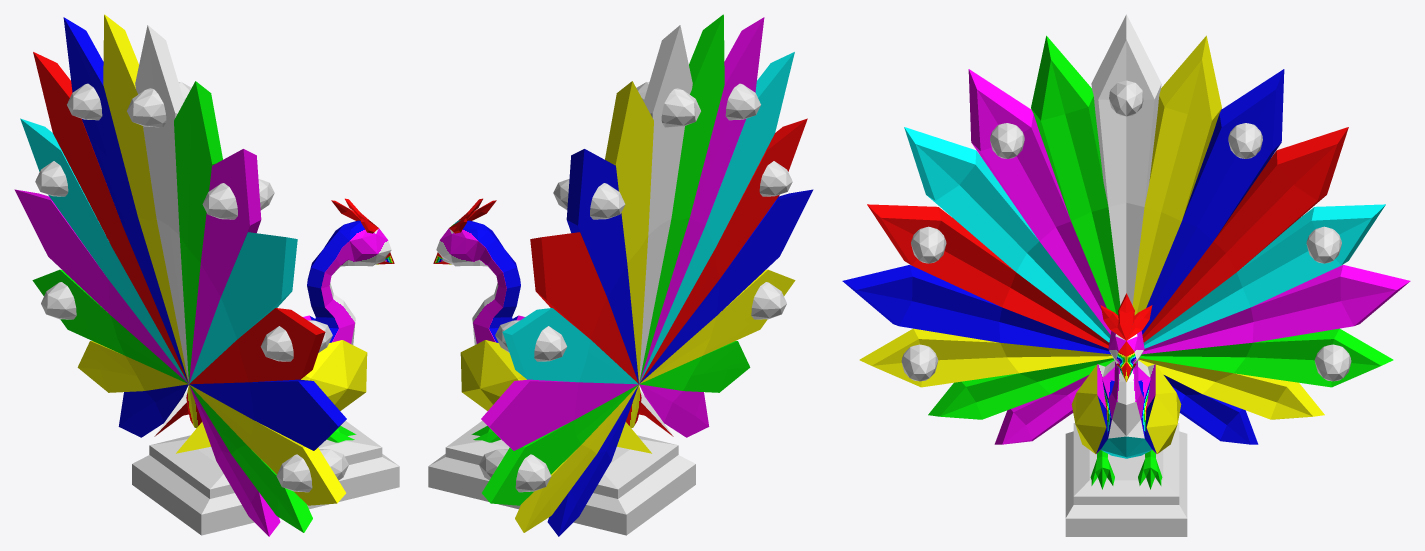
File: Peacock_statue.fbx
3 renders of one model, left to right at view 1: azimuth 30°, elevation 25°; view 2: azimuth 150°, elevation 25°; view 3: azimuth 270°, elevation 25°, orthographic. The views are drawn at different scales.
Parts seen in each view (by area): view 1: Peacock, platform, holes; view 2: Peacock, platform, holes; view 3: Peacock, platform, holes.
Boxes of the visible parts, <box> form: Peacock: <box>14,14,394,536</box>; platform: <box>132,420,399,535</box>; holes: <box>35,82,348,492</box>; Peacock: <box>433,14,813,536</box>; platform: <box>428,420,695,535</box>; holes: <box>479,82,792,492</box>; Peacock: <box>842,14,1410,489</box>; platform: <box>1065,423,1187,536</box>; holes: <box>901,80,1351,381</box>.
Bounding box in the file's own units: 765 × 1353 × 1621.
